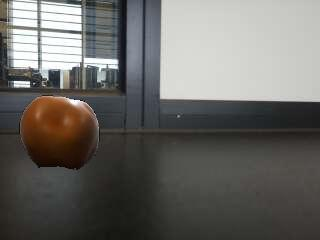Potato: (19, 96, 100, 171)
